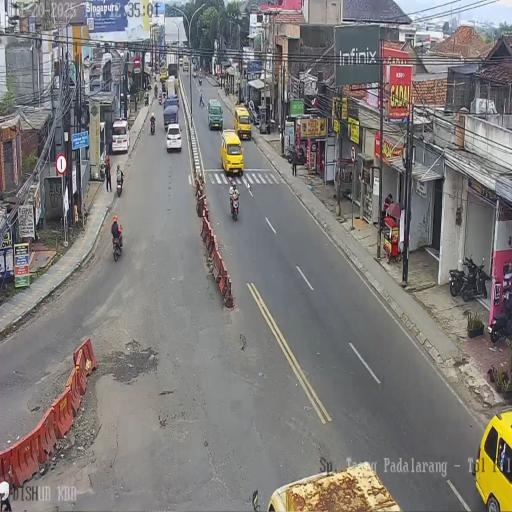3: (166, 52, 180, 84)
car: (220, 129, 243, 175), (110, 119, 130, 154), (234, 104, 251, 143), (166, 123, 182, 152), (208, 98, 222, 130), (163, 94, 179, 116), (247, 100, 258, 122), (159, 65, 168, 82), (182, 56, 189, 70), (179, 58, 183, 66)
truck: (460, 255, 488, 302), (488, 288, 512, 342), (112, 227, 122, 261), (230, 189, 240, 221), (294, 145, 306, 166), (115, 172, 124, 197), (150, 118, 155, 134), (162, 81, 166, 96), (154, 84, 158, 98), (158, 92, 162, 106), (144, 94, 148, 106), (198, 76, 202, 86), (193, 70, 197, 78)
